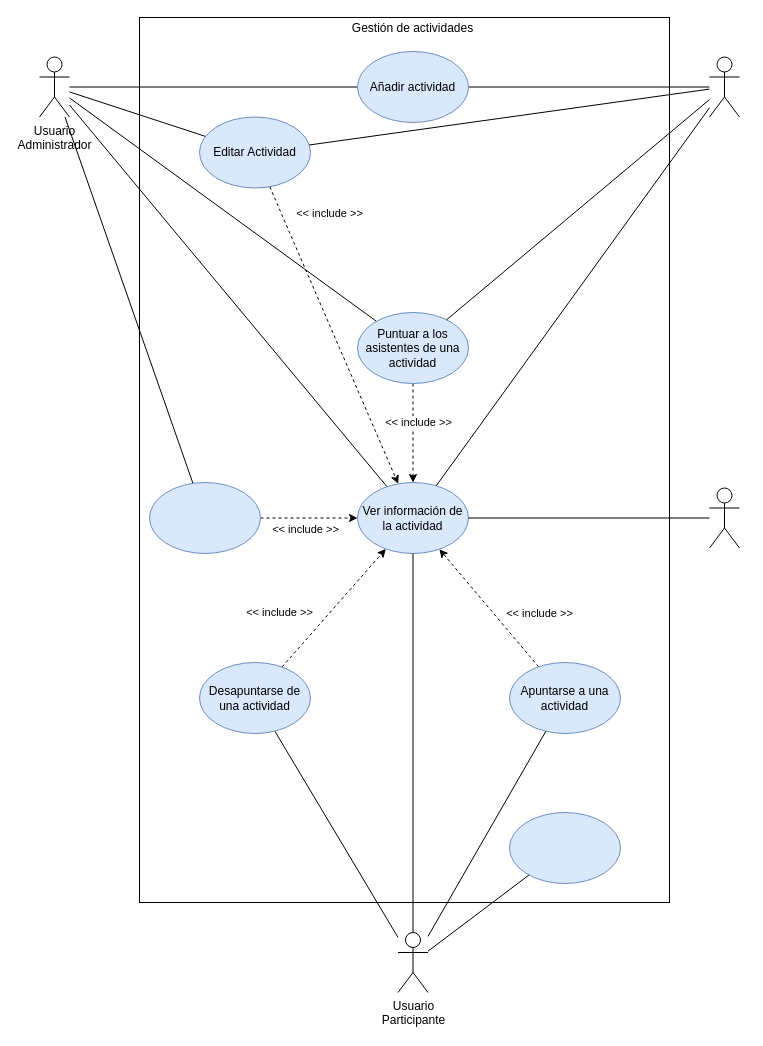
The diagram is 763 pixels wide and 1046 high, and some of its shapes have lost their labels. Each missing label, with the box of its shape:
Eliminar actividad: (148, 482, 260, 554)
Usuario General: (708, 56, 740, 117)
Usuario Invitado: (708, 487, 740, 548)
Ver ranking y su puntuación: (508, 812, 620, 884)
